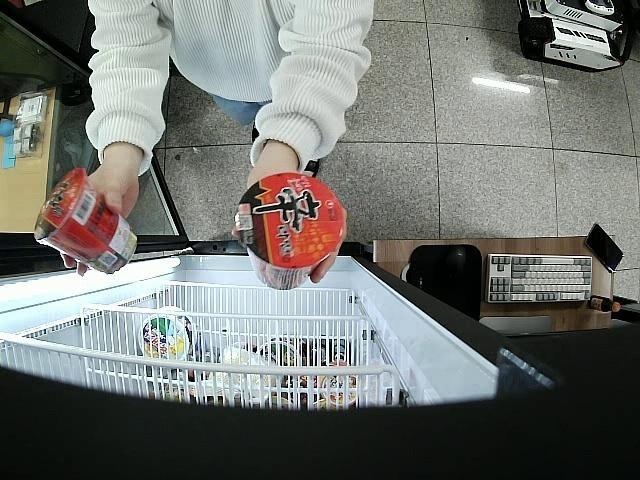02_shinRamen_S: (235, 172, 346, 289), (34, 170, 137, 274)
